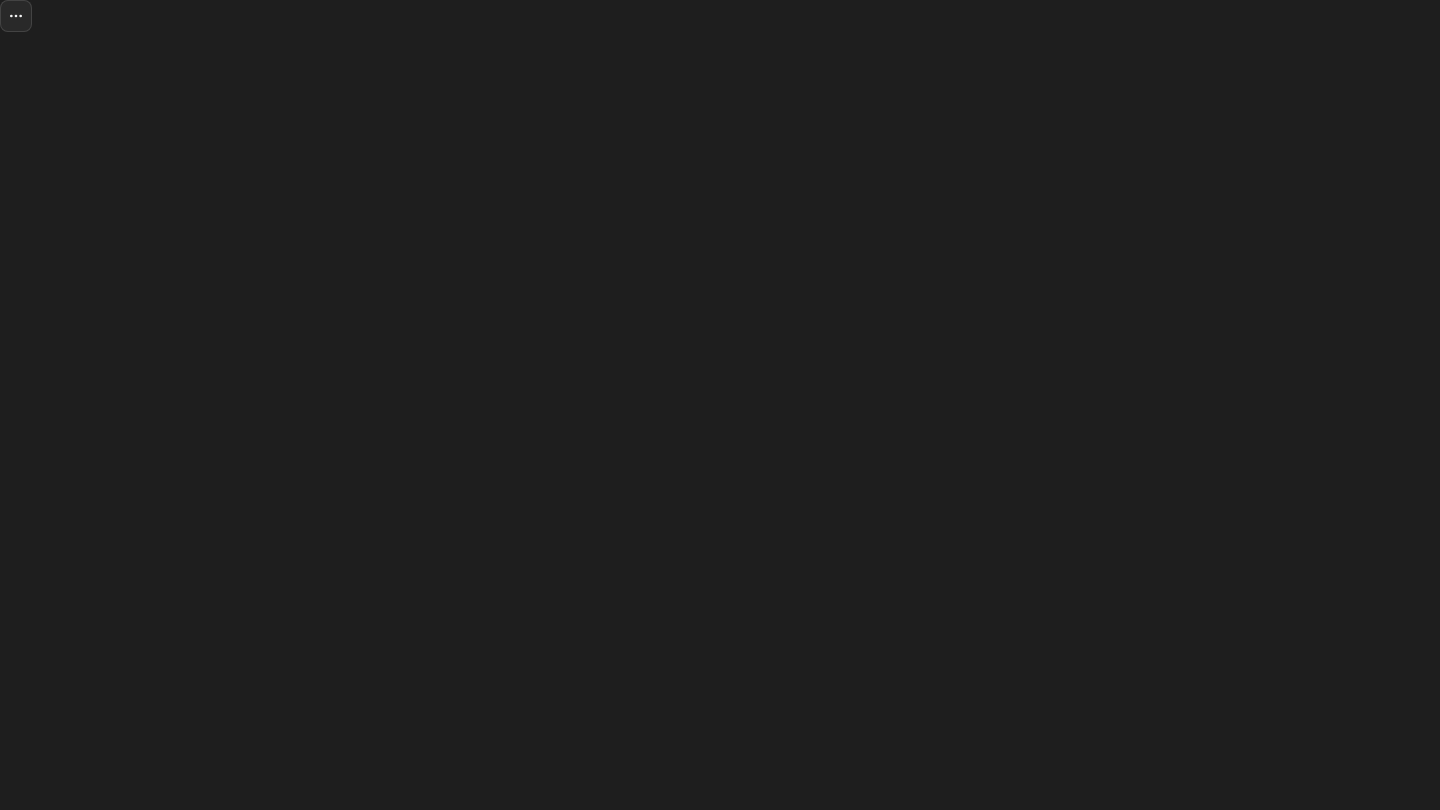
it: 键盘打开排除后显示账号范围，默认保留调度，取消不写入
Press Tab
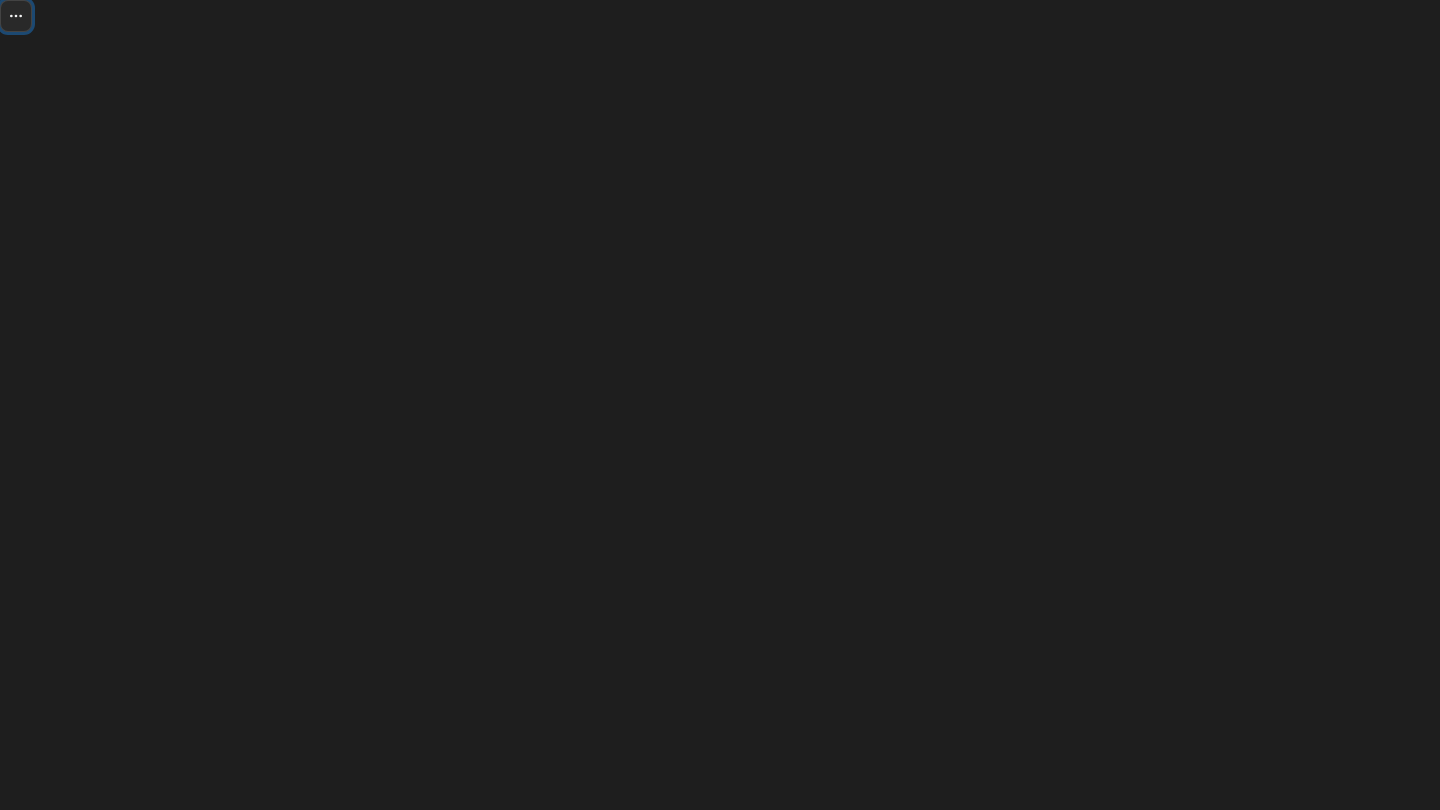
Press Enter
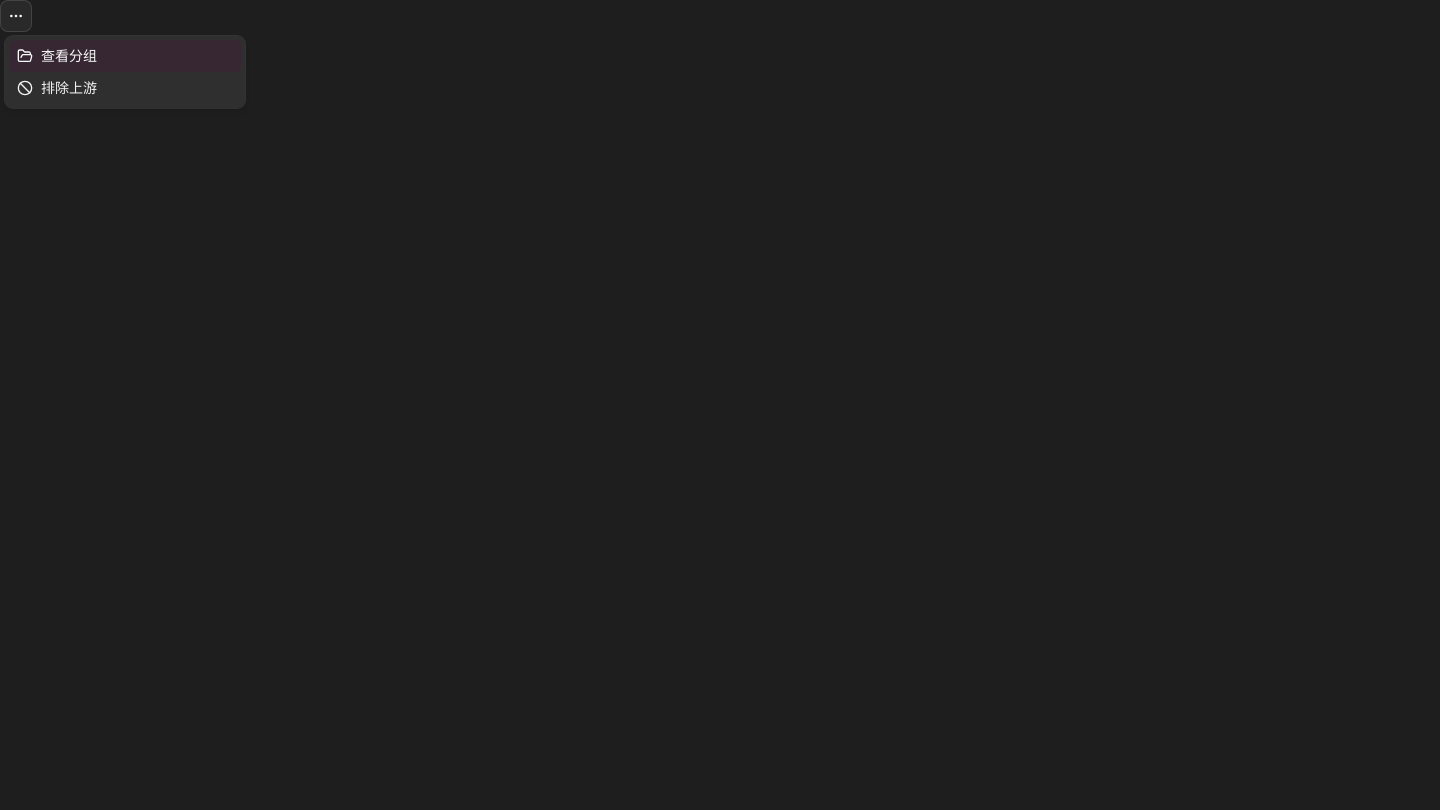
Check: the menu is shown, box x1=5 y1=36 x2=245 y2=108
Press Home Arrowdown Enter
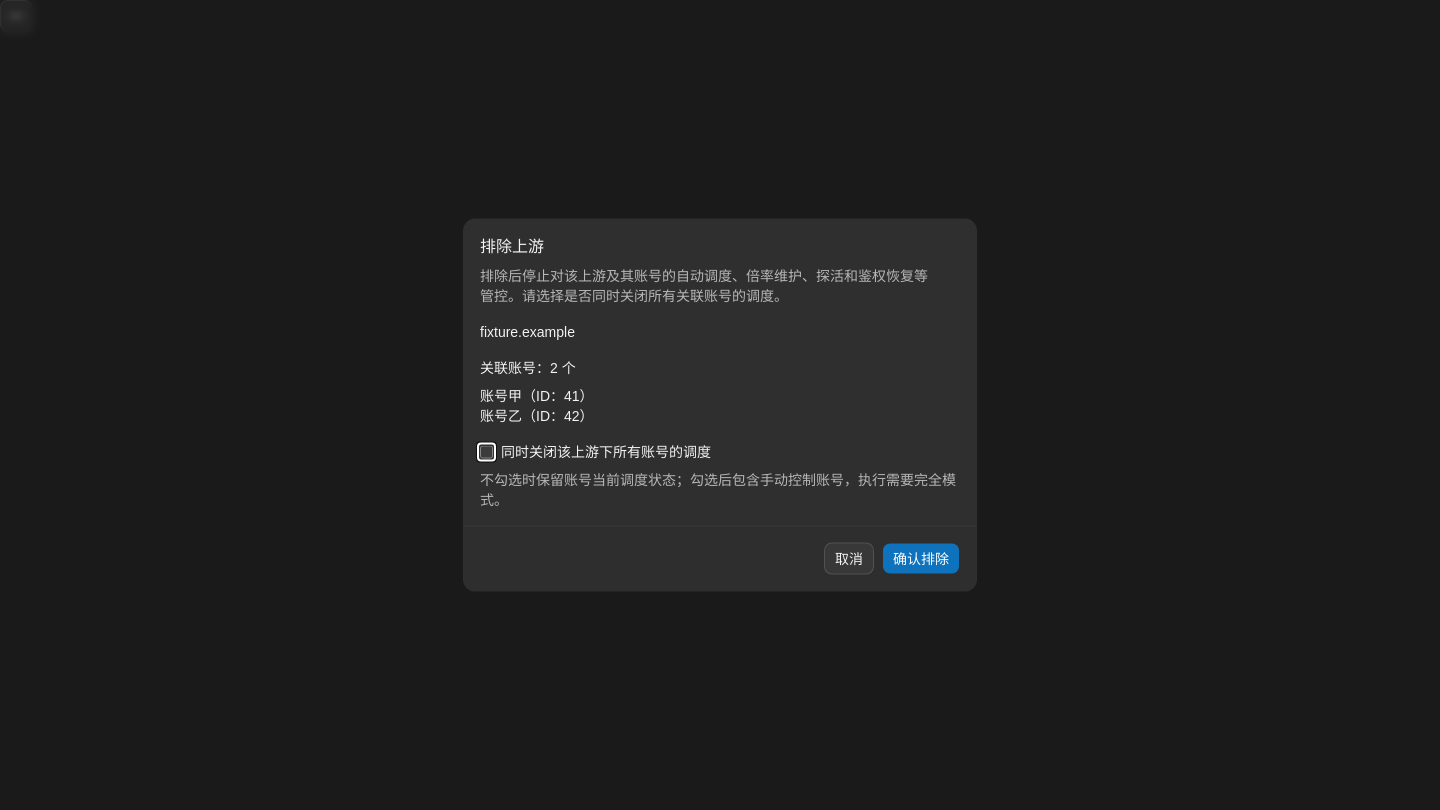
Check: the list item "账号甲（ID：41）" is shown, box x1=480 y1=388 x2=594 y2=404
Check: the checkbox labelled "同时关闭该上游下所有账号的调度" is not checked, box x1=480 y1=445 x2=493 y2=458
Click the button "取消".
click(849, 558)  # box x1=824 y1=542 x2=874 y2=574
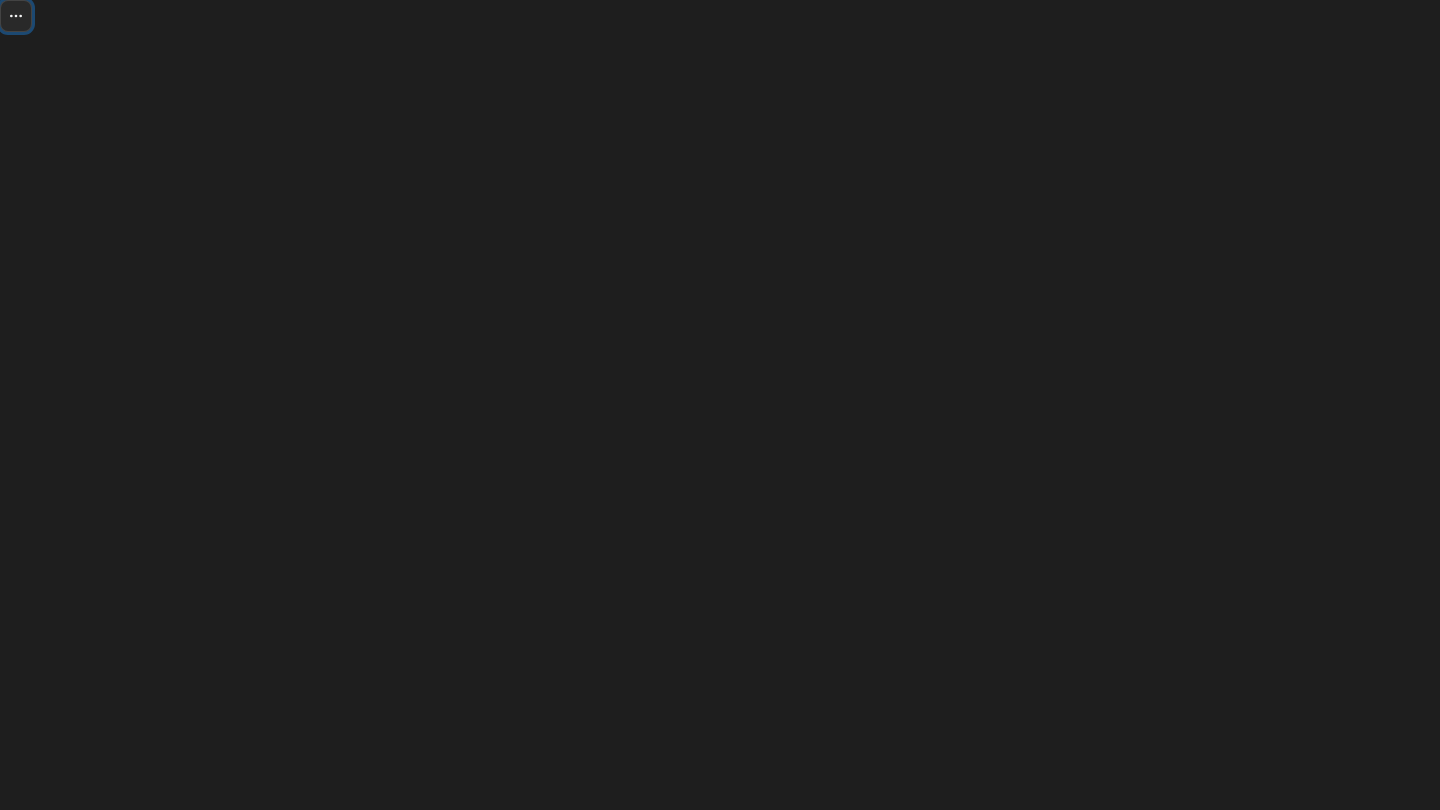
Check: the dialog is gone
